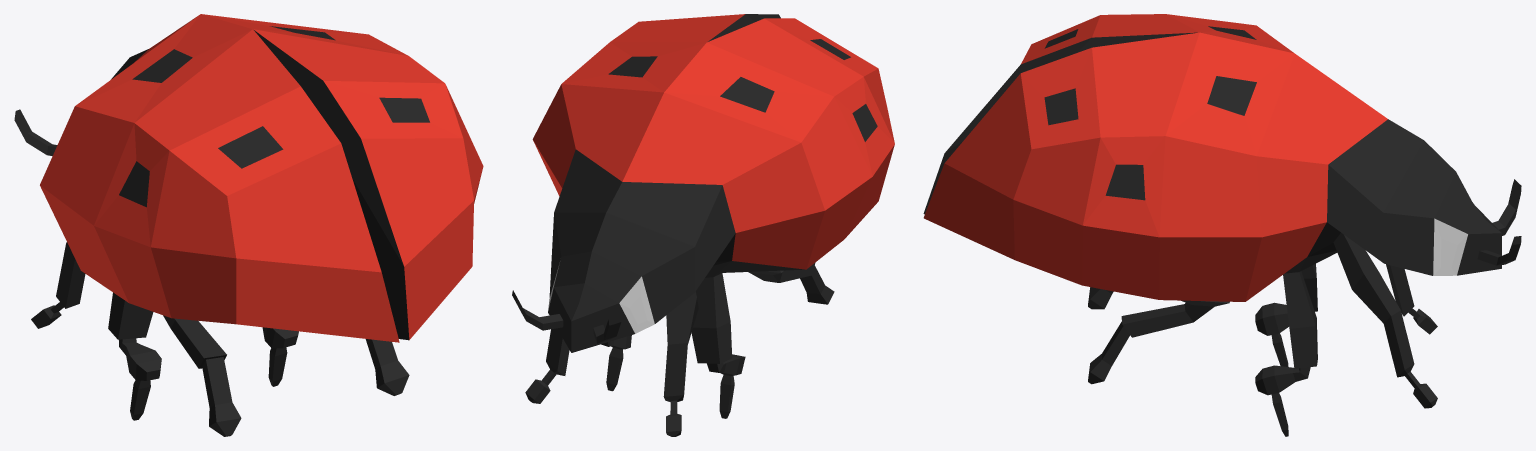
File: SM_LadyBug.fbx
3 views of the same model, side by side, from view 1: azimuth 30°, elevation 25°; view 2: azimuth 150°, elevation 25°; view 3: azimuth 270°, elevation 25° (orthographic). The views are drawn at different scales.
Visible parts, largest first — view 1: LadyBug; view 2: LadyBug; view 3: LadyBug.
Part boxes in pixels (x1,y1,x2,y2): LadyBug: [14, 14, 483, 436]; LadyBug: [512, 14, 894, 436]; LadyBug: [923, 14, 1521, 436].
Size of the model in its own units: 109 by 118 by 172.
